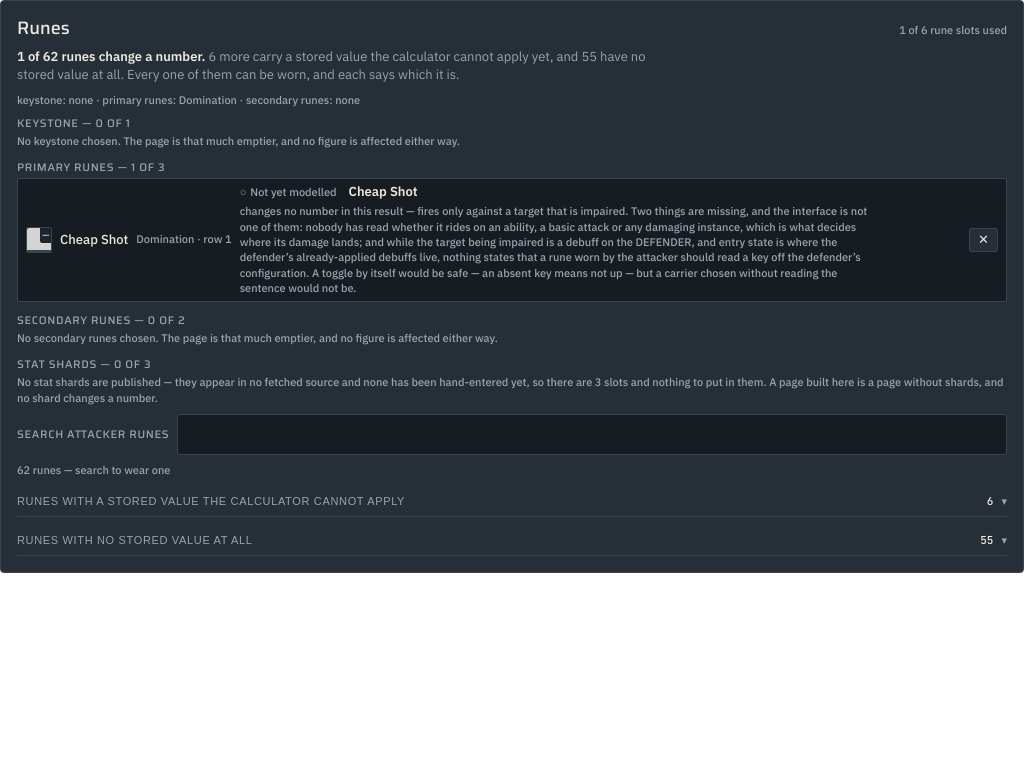
Test: runes/wearing and removing › a rune already worn is offered as "worn" and cannot be worn twice
Type "cheap shot" into the search field labelled "Search attacker runes" at (592, 434), box [177,414,1007,455]
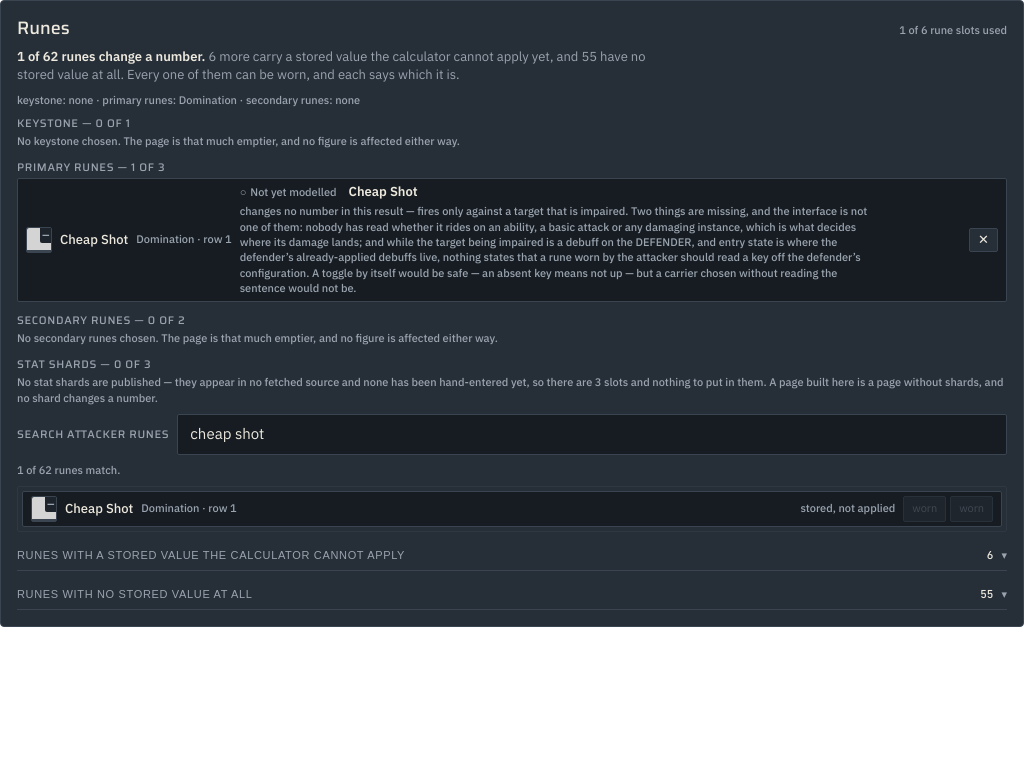
Check: the button with aria-label "Wear Cheap Shot" is disabled, box [903,496,946,522]
Check: the 2nd button "worn" is shown, box [950,496,993,522]
